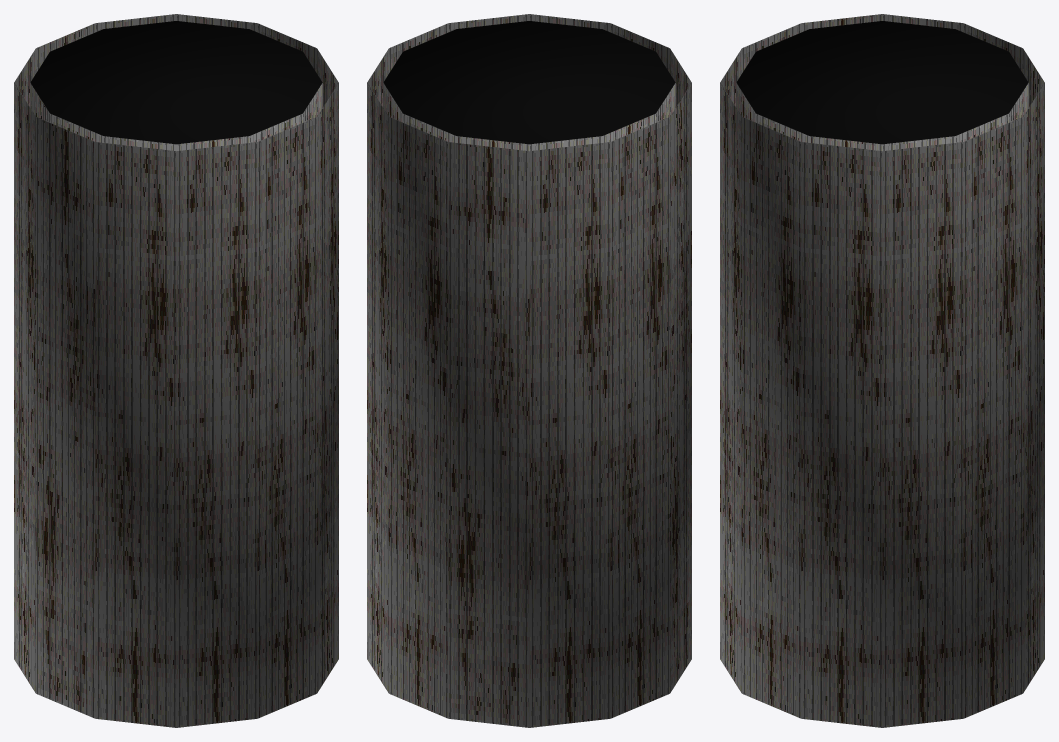
File: HUGE_CYLINDER_NO_COLLISION.glb
3 views of the same model, side by side, from view 1: azimuth 30°, elevation 25°; view 2: azimuth 150°, elevation 25°; view 3: azimuth 270°, elevation 25° (orthographic).
Visible parts, largest first — view 1: HUGE_CYLINDER_NO_COLLISION; view 2: HUGE_CYLINDER_NO_COLLISION; view 3: HUGE_CYLINDER_NO_COLLISION.
Part boxes in pixels (box(x1,y1,x2,y2)): HUGE_CYLINDER_NO_COLLISION: box(14, 14, 338, 727); HUGE_CYLINDER_NO_COLLISION: box(367, 14, 691, 727); HUGE_CYLINDER_NO_COLLISION: box(720, 14, 1044, 727).
Bounding box in the file's own units: 23.36 × 45.78 × 23.36.
Materials: 1 (1 with a texture image).
